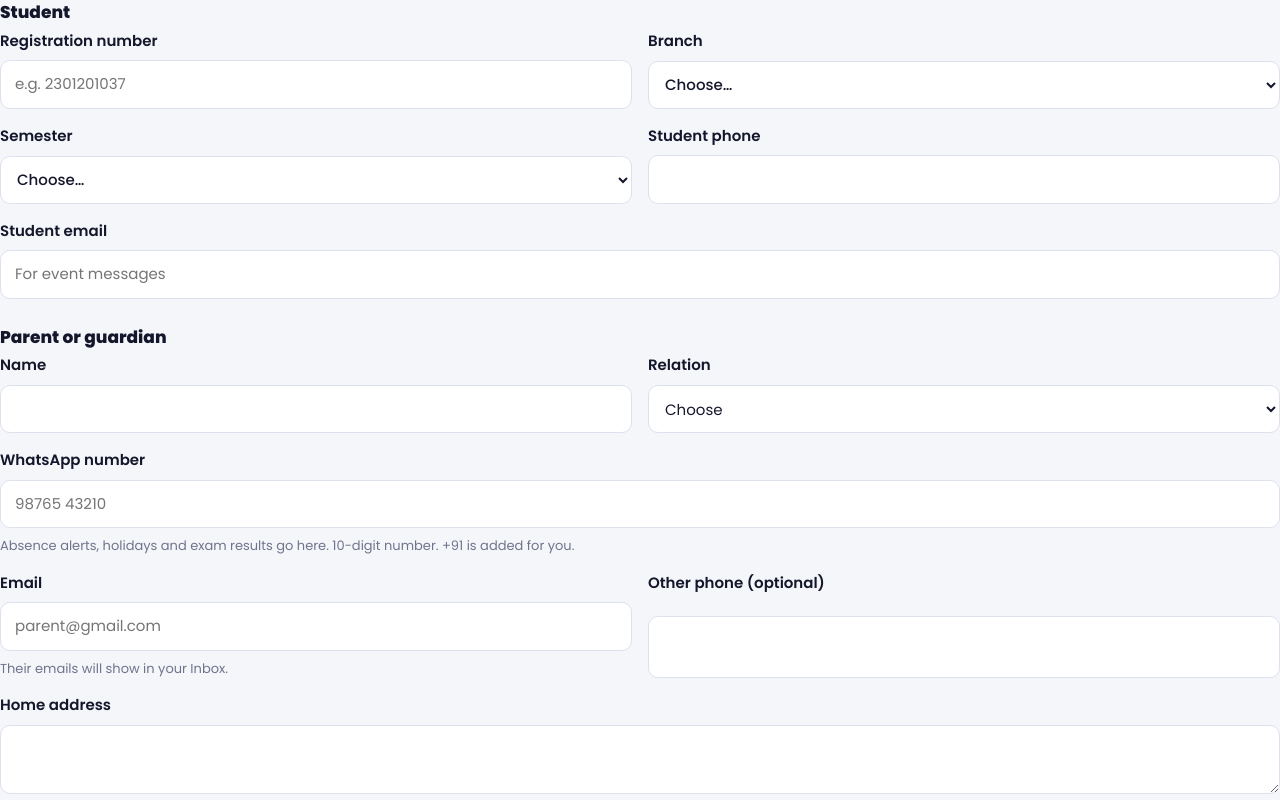
Test: branch and semester are dropdowns: 1-8 semesters, common branches, and Other to type
Step 1. Select "ECE" in the dropdown labelled "Branch" → (964, 85), box [648, 61, 1279, 109]
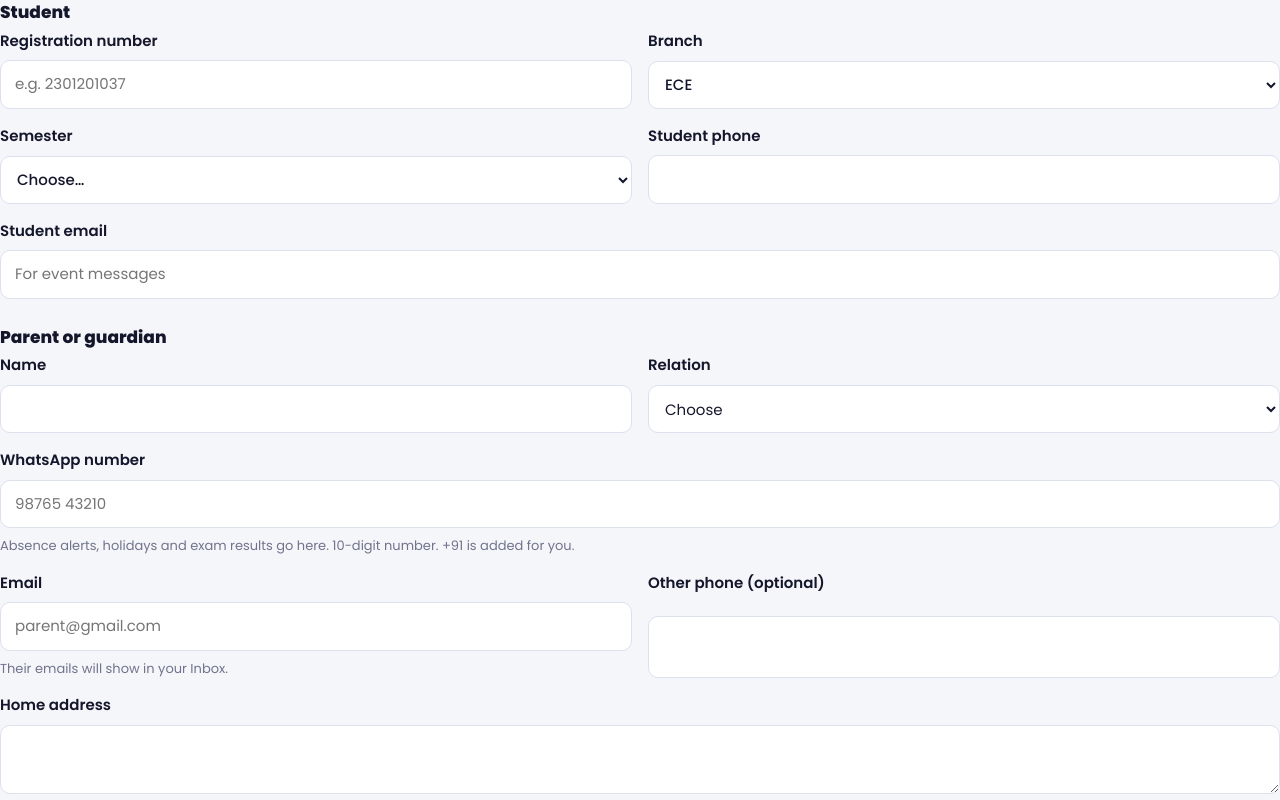
Step 2. Select "Semester 6" in the dropdown labelled "Semester" → (316, 180), box [0, 156, 632, 204]
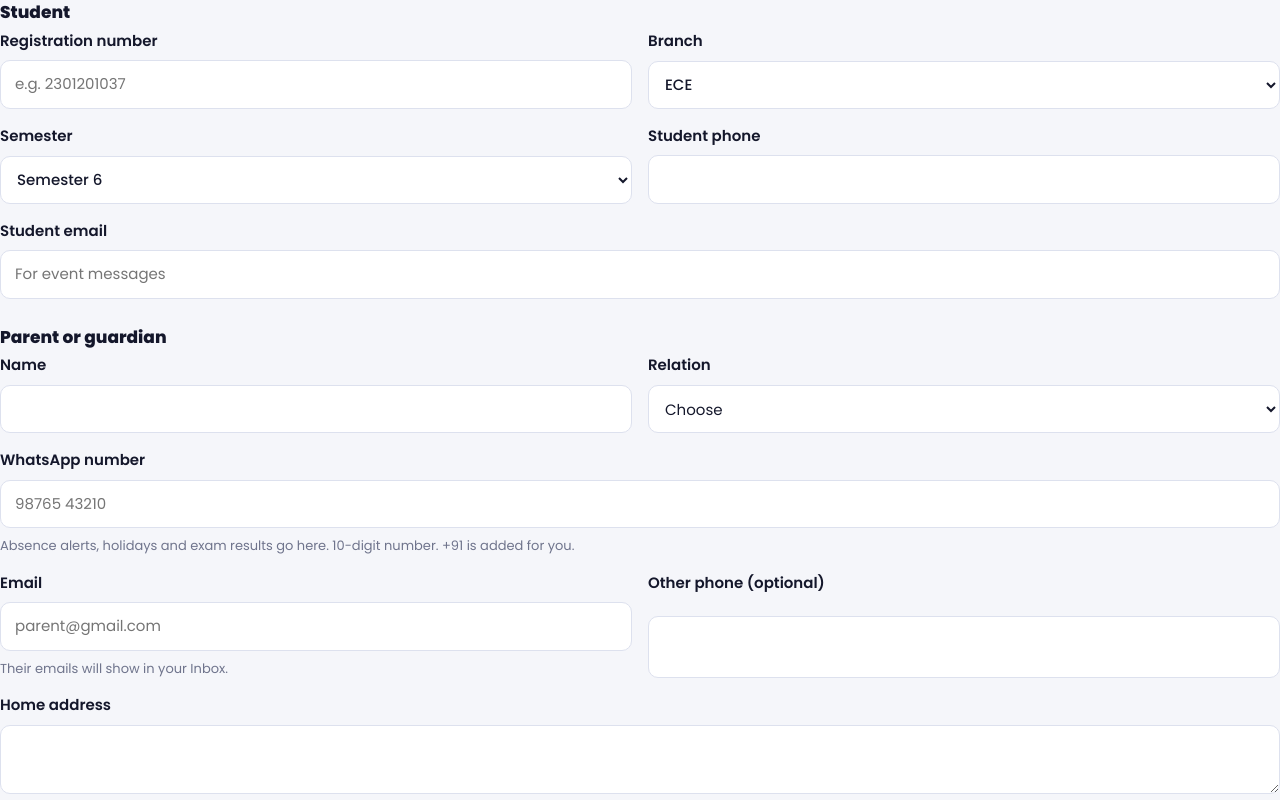
Step 3. Select "Other (type it)" in the dropdown labelled "Branch" → (964, 85), box [648, 61, 1279, 109]
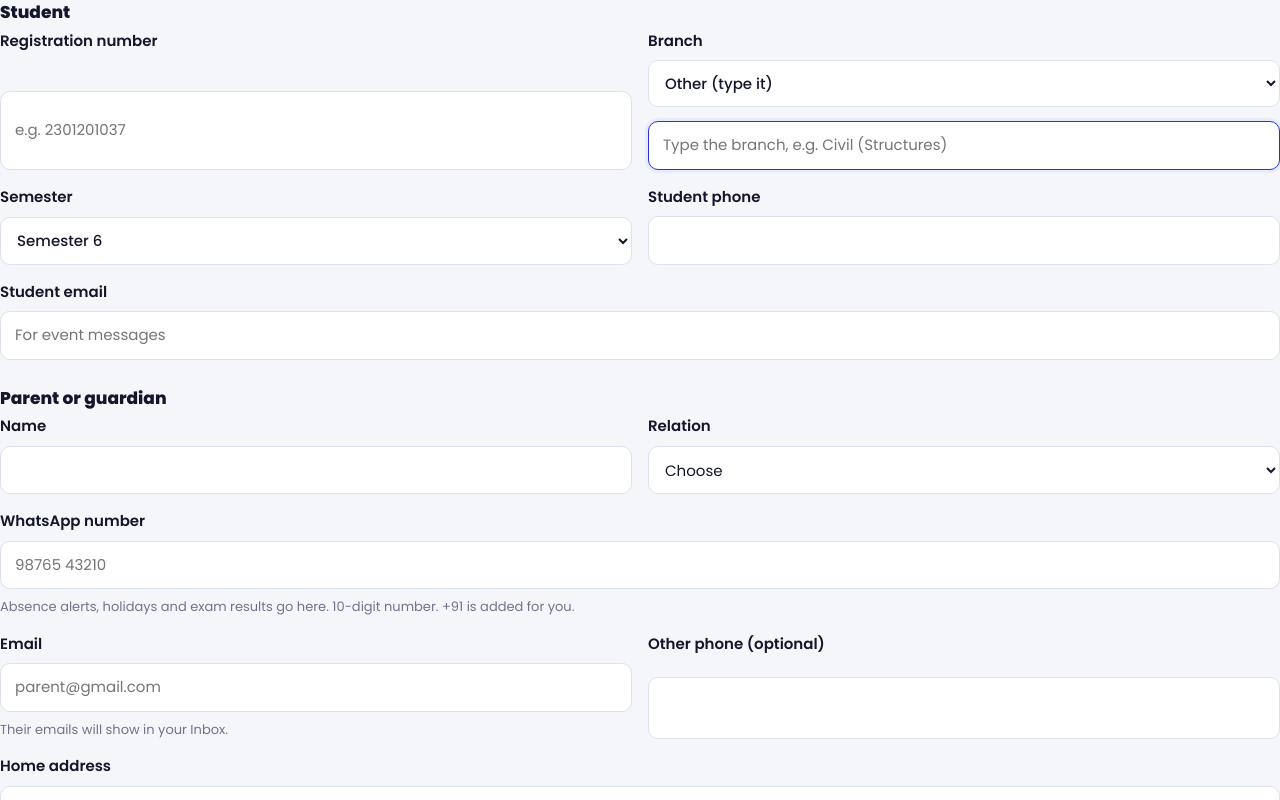
Step 4. Type "Ocean Engineering" into the field named "Branch: type your own" → (964, 145), box [648, 121, 1279, 170]
(page scrolled)
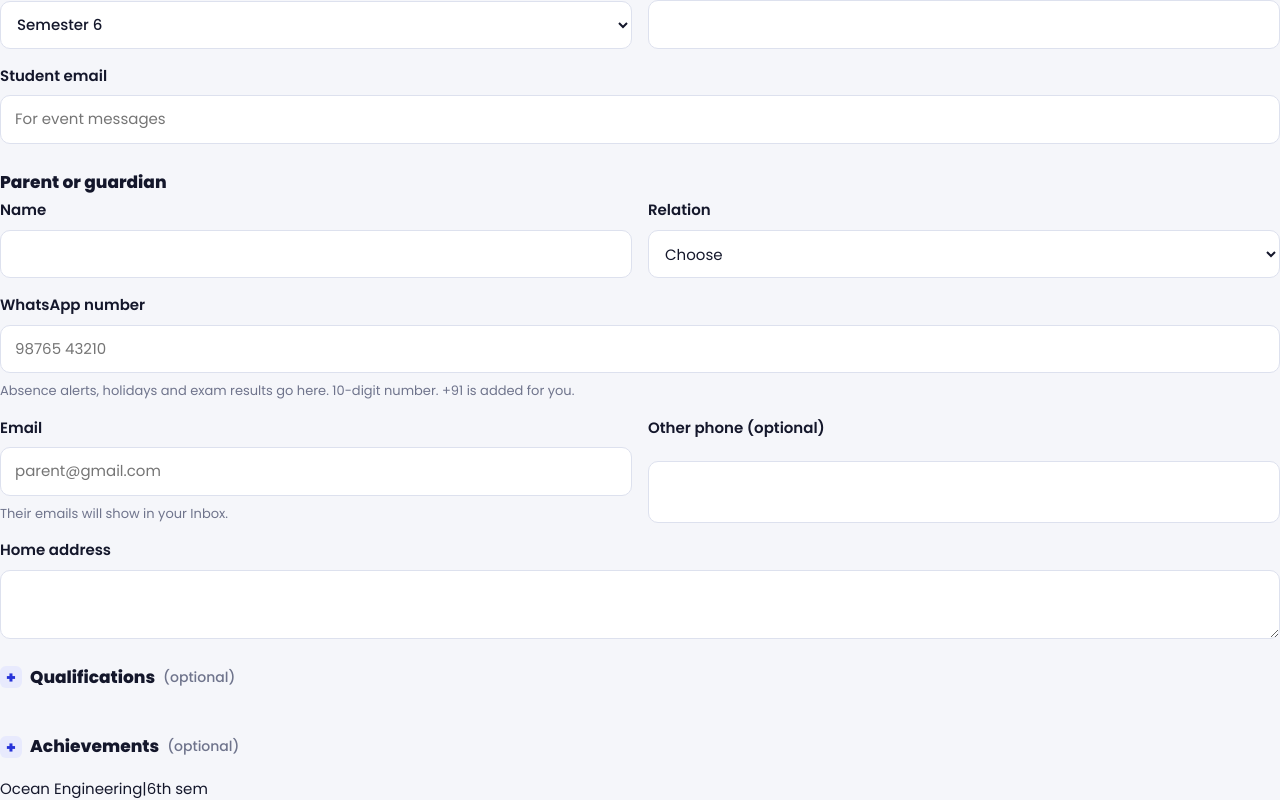
Result: the text with test id "val" reads "Ocean Engineering|6th sem" at [0, 778, 208, 798]
